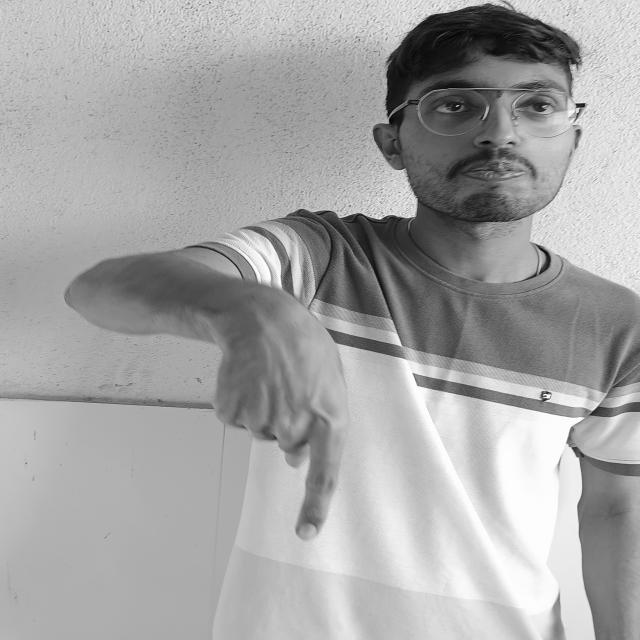Now: (162, 283, 386, 562)
